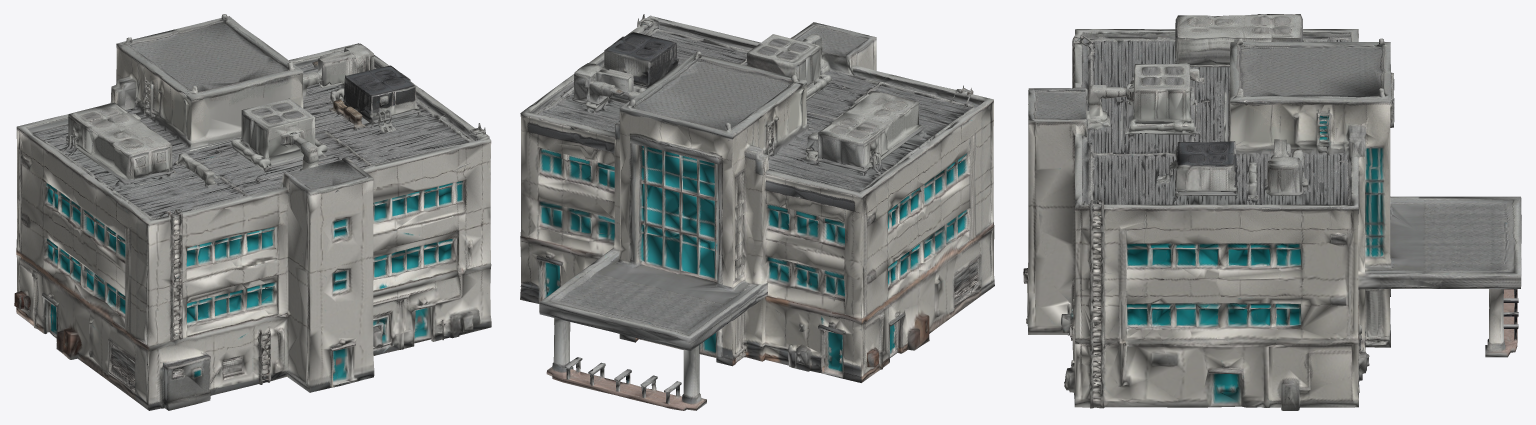
Rendered from hospital.glb.
3 views of the same model, side by side, from view 1: azimuth 30°, elevation 25°; view 2: azimuth 150°, elevation 25°; view 3: azimuth 270°, elevation 25° (orthographic). The views are drawn at different scales.
Visible parts, largest first — view 1: mesh_node; view 2: mesh_node; view 3: mesh_node.
Part boxes in pixels (x1,y1,x2,y2): mesh_node: (14,14,491,410); mesh_node: (520,14,994,410); mesh_node: (1023,14,1521,410).
Size of the model in its own units: 1.78 by 1.13 by 2.
1 material, 1 textured.
